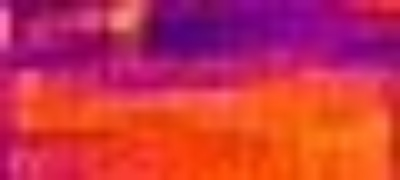Shadow: (143, 1, 397, 78)
